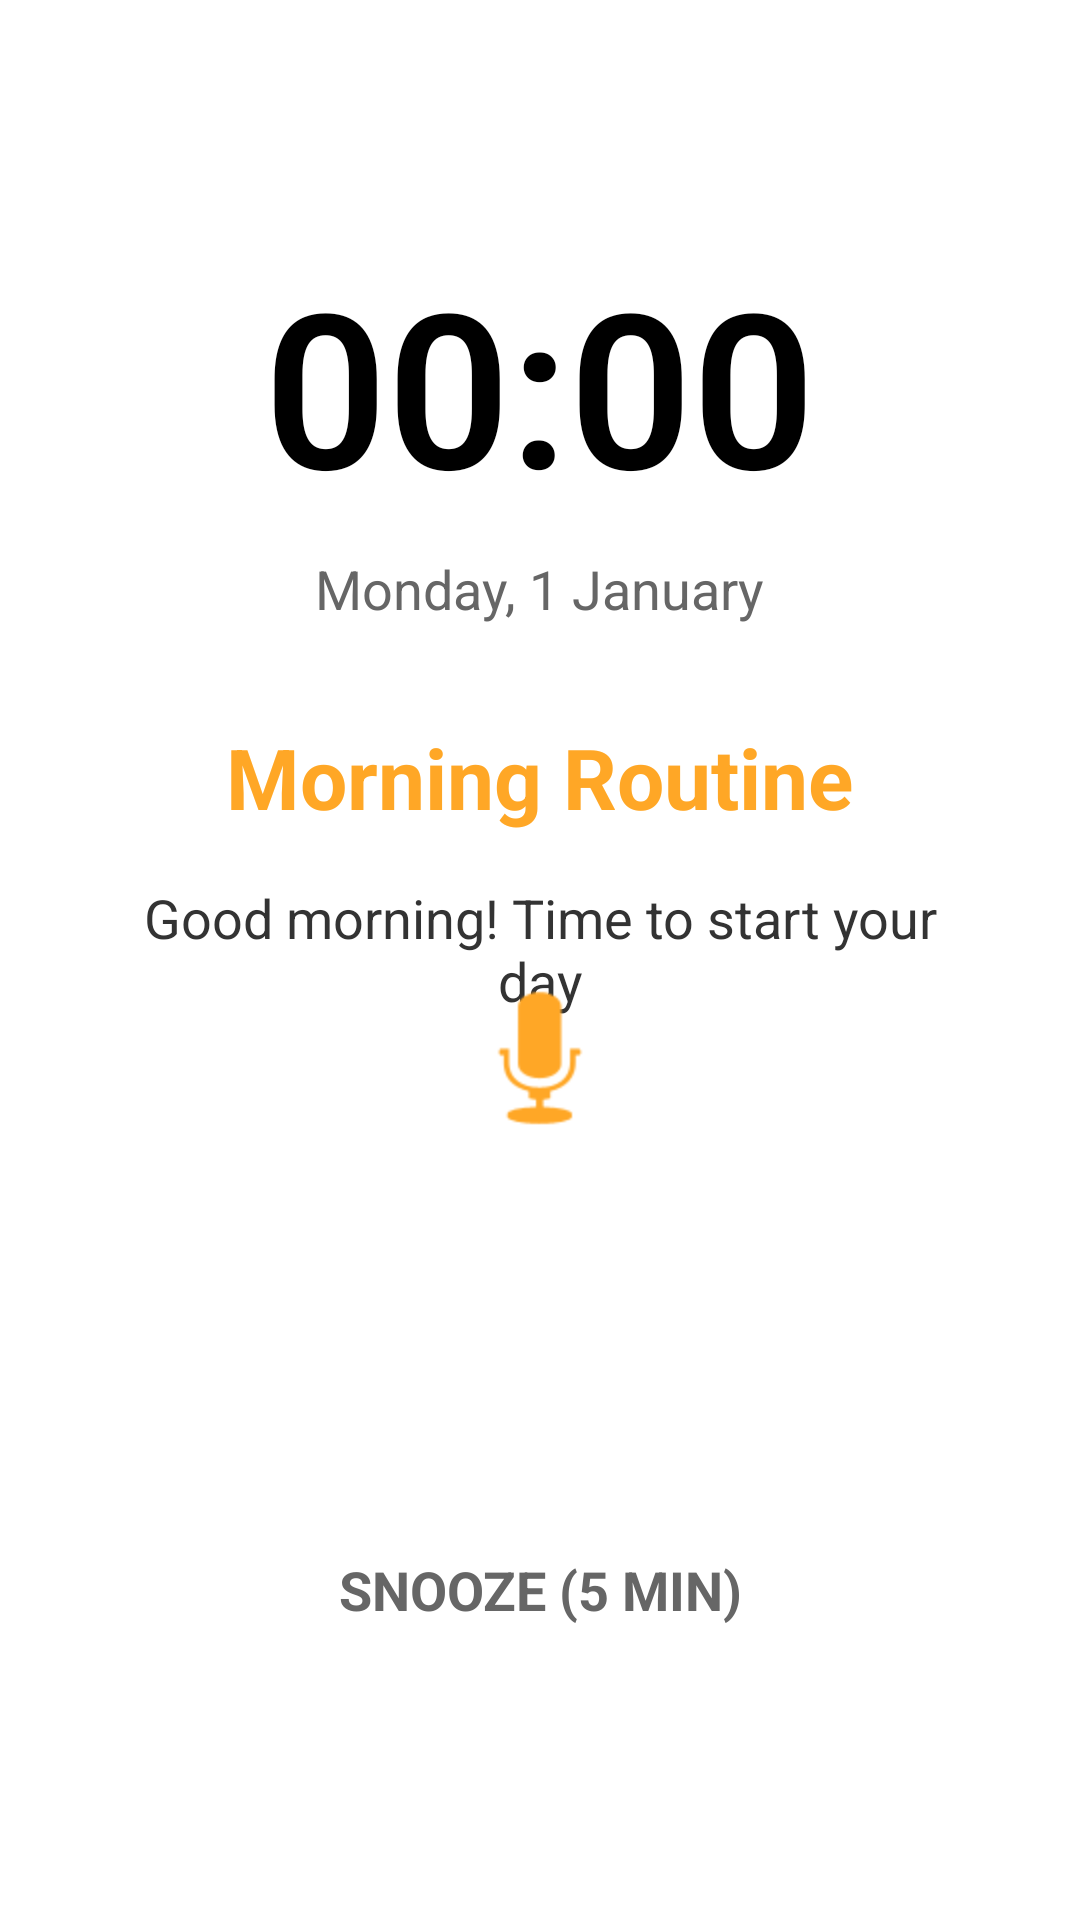

Icon click points for this 1080w x 1920h phone screenshot, format (x=x, y=y):
speak now: (x=540, y=1043)
